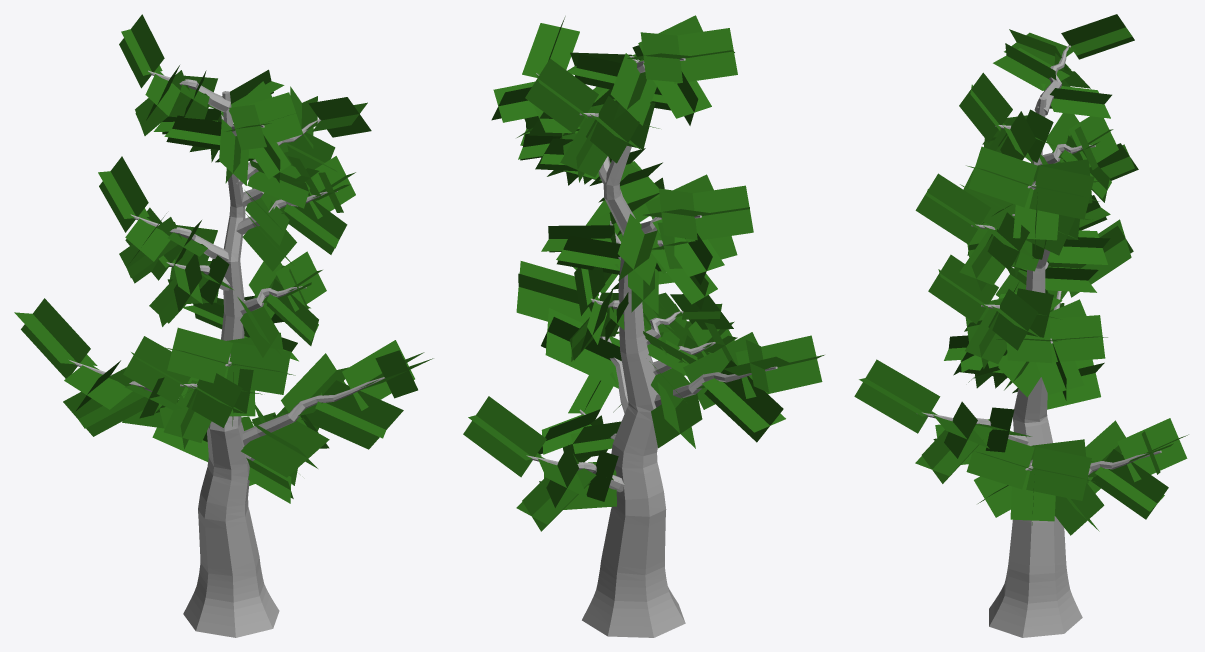
The model's file is TreeA12Large.fbx.
3 views of the same model, side by side, from view 1: azimuth 30°, elevation 25°; view 2: azimuth 150°, elevation 25°; view 3: azimuth 270°, elevation 25° (orthographic). The views are drawn at different scales.
Parts seen in each view (by area): view 1: TREEA12A; view 2: TREEA12A; view 3: TREEA12A.
Boxes of the visible parts, x1=… form: TREEA12A: x1=14, y1=14, x2=433, y2=637; TREEA12A: x1=463, y1=15, x2=824, y2=637; TREEA12A: x1=854, y1=14, x2=1188, y2=637.
Size of the model in its own units: 10.12 by 17.42 by 9.15.
